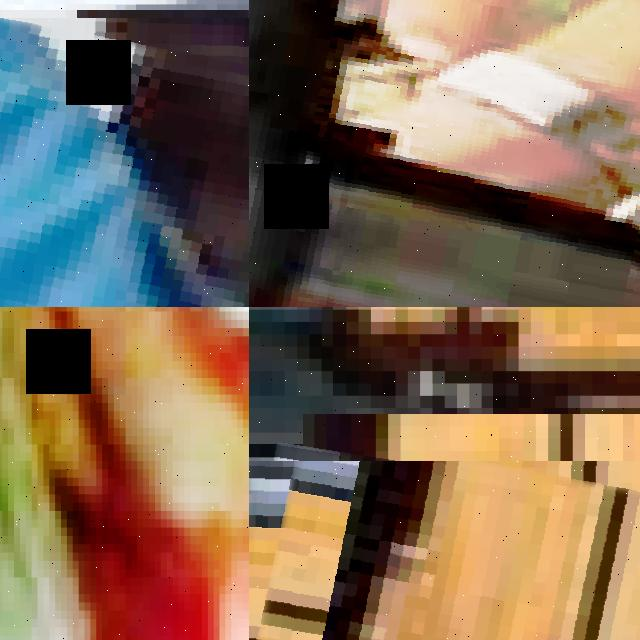arms: (249, 307, 640, 640), (249, 0, 640, 307), (0, 307, 249, 640), (0, 18, 249, 307), (249, 461, 640, 640), (0, 307, 249, 477), (161, 307, 249, 640)
